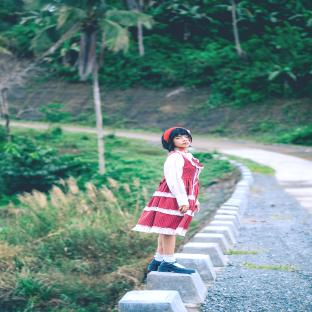Human: (133, 127, 203, 274)
